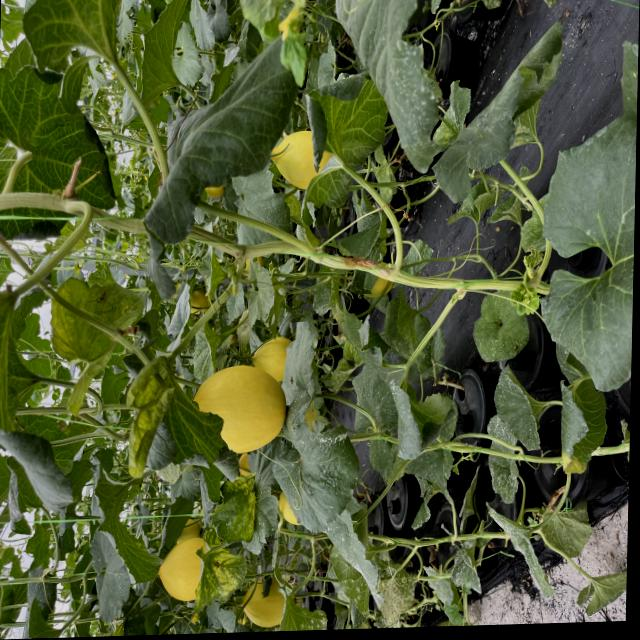downy mildew: (118, 351, 229, 482), (192, 523, 247, 615)
healthy: (535, 119, 637, 395)
powdery mildew: (490, 362, 545, 455), (276, 585, 327, 631)
